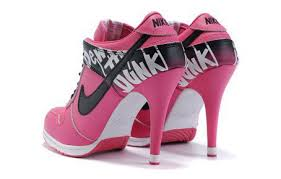nike: (73, 30, 160, 132)
